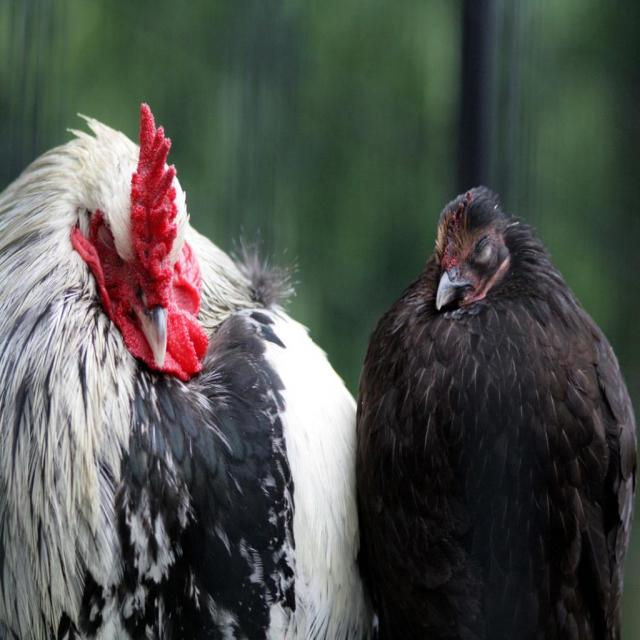Chicken: (24, 113, 388, 640), (356, 185, 639, 639)
